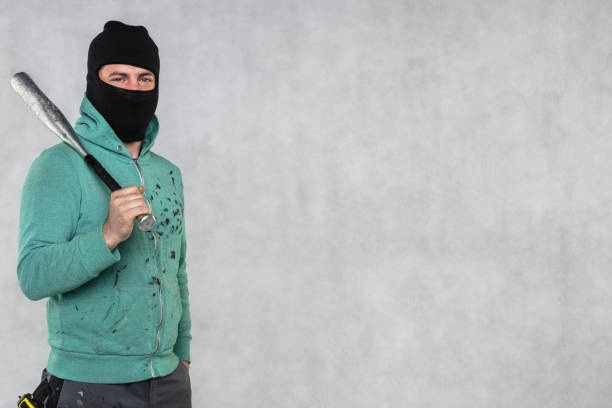bita: (4, 72, 153, 229)
